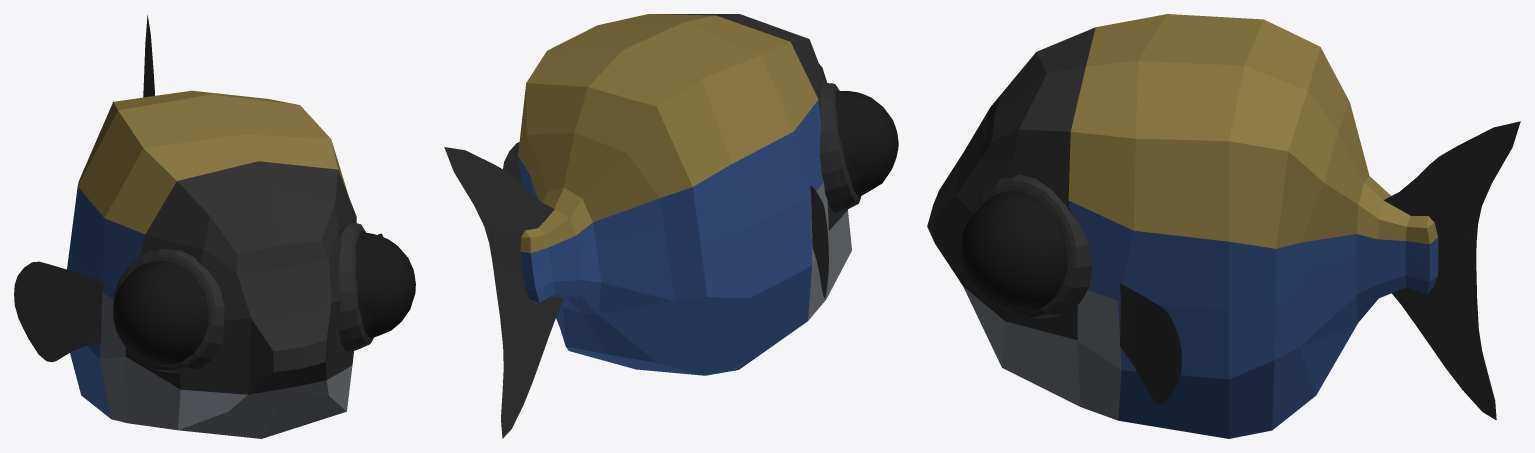
File: Tang.glb
3 views of the same model, side by side, from view 1: azimuth 30°, elevation 25°; view 2: azimuth 150°, elevation 25°; view 3: azimuth 270°, elevation 25° (orthographic). The views are drawn at different scales.
Parts seen in each view (by area): view 1: Tang_Cube.131; view 2: Tang_Cube.131; view 3: Tang_Cube.131.
Part boxes in pixels (box(x1,y1,x2,y2)): Tang_Cube.131: box(14, 15, 415, 438); Tang_Cube.131: box(444, 14, 898, 438); Tang_Cube.131: box(927, 14, 1520, 438).
Size of the model in its own units: 3.2 by 2.69 by 4.14.
